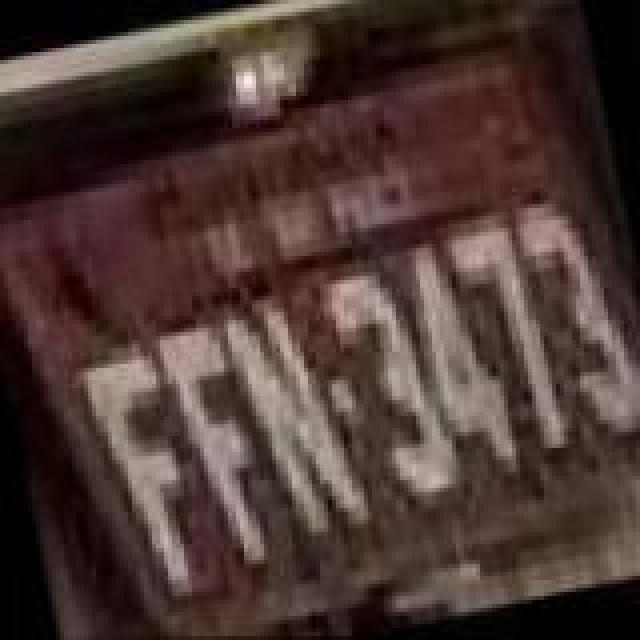3: (320, 258, 468, 518), (508, 184, 640, 452)
4: (404, 236, 524, 484)
7: (440, 208, 568, 468)
F: (68, 340, 208, 612), (154, 314, 282, 582)
N: (220, 288, 376, 556)
